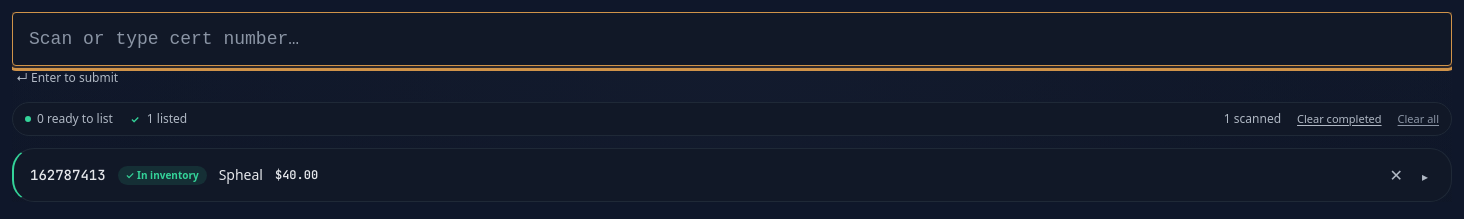
it: confirmed Cert Intake returns › counts already-listed rows as completed and keeps sold rows separate (confirmed refresh)
Expected: the text "1 listed" is shown, 147,111 -> 187,127
Click the button "Clear completed". click: x=1339, y=119
box: 1297,112 -> 1382,126
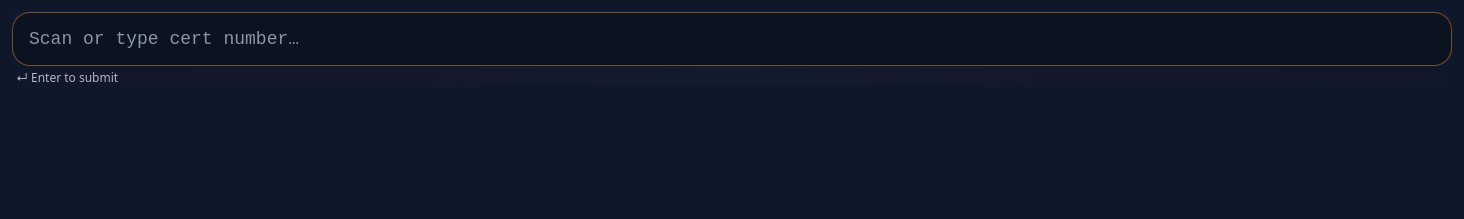
Expected: the text "1 scanned" is gone
